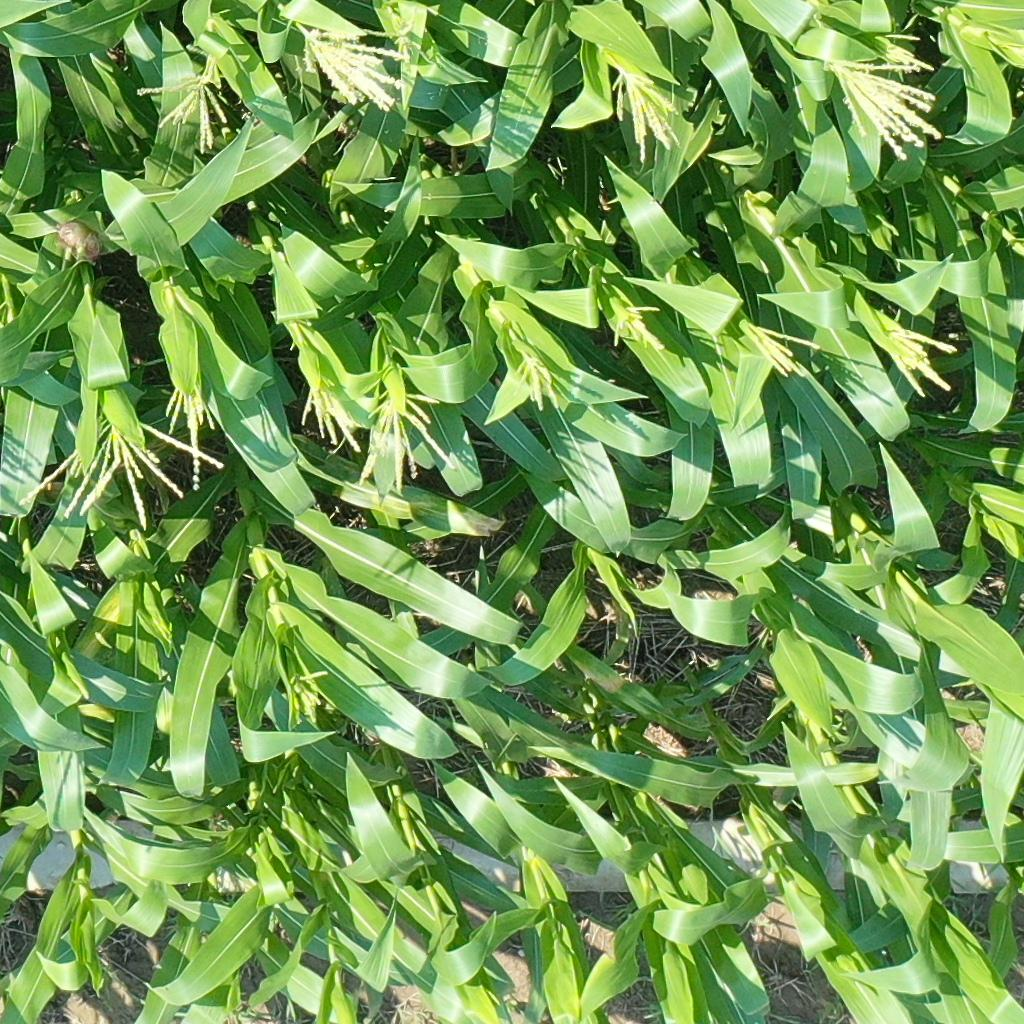Tassel: (16, 419, 233, 531), (820, 27, 946, 168), (133, 43, 237, 151), (295, 23, 414, 113), (363, 383, 458, 490), (160, 382, 235, 491), (607, 65, 687, 163), (880, 319, 957, 406), (302, 381, 376, 459), (738, 315, 820, 382), (510, 349, 568, 414), (281, 663, 335, 730), (607, 298, 664, 355)
